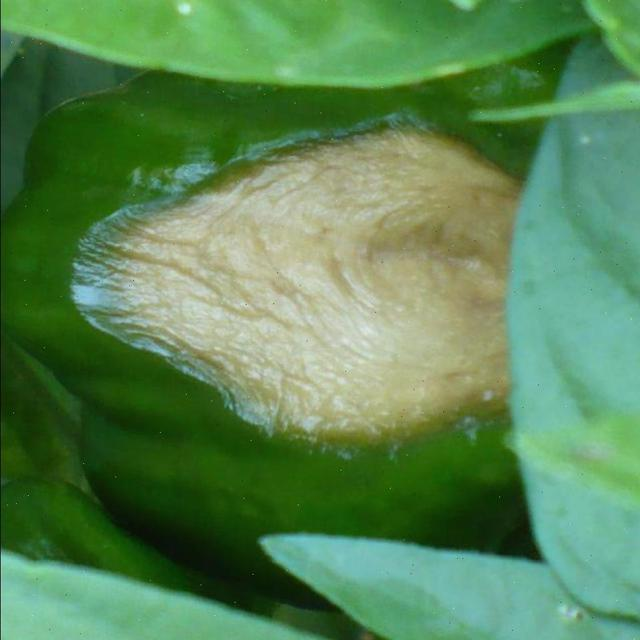Sunscald Fruit: (40, 79, 369, 305)
